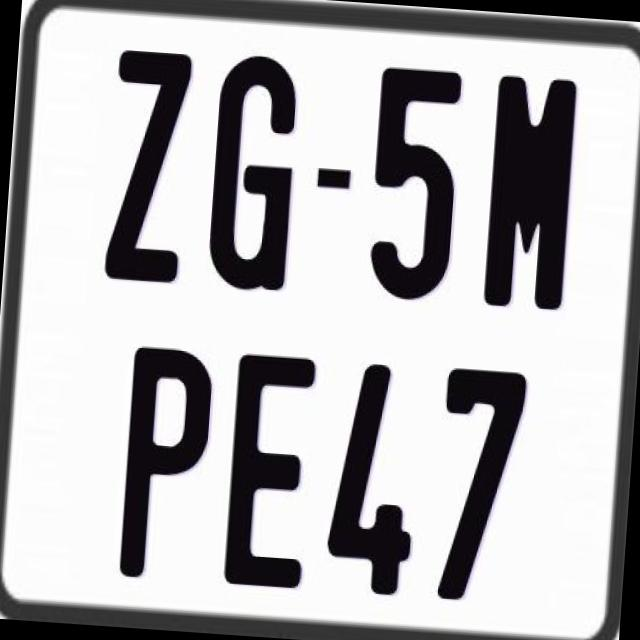4: (322, 359, 427, 599)
5: (362, 61, 461, 306)
7: (428, 362, 528, 600)
E: (221, 353, 317, 593)
G: (202, 52, 301, 294)
M: (480, 73, 580, 318)
P: (115, 344, 215, 579)
Z: (100, 46, 194, 290)
